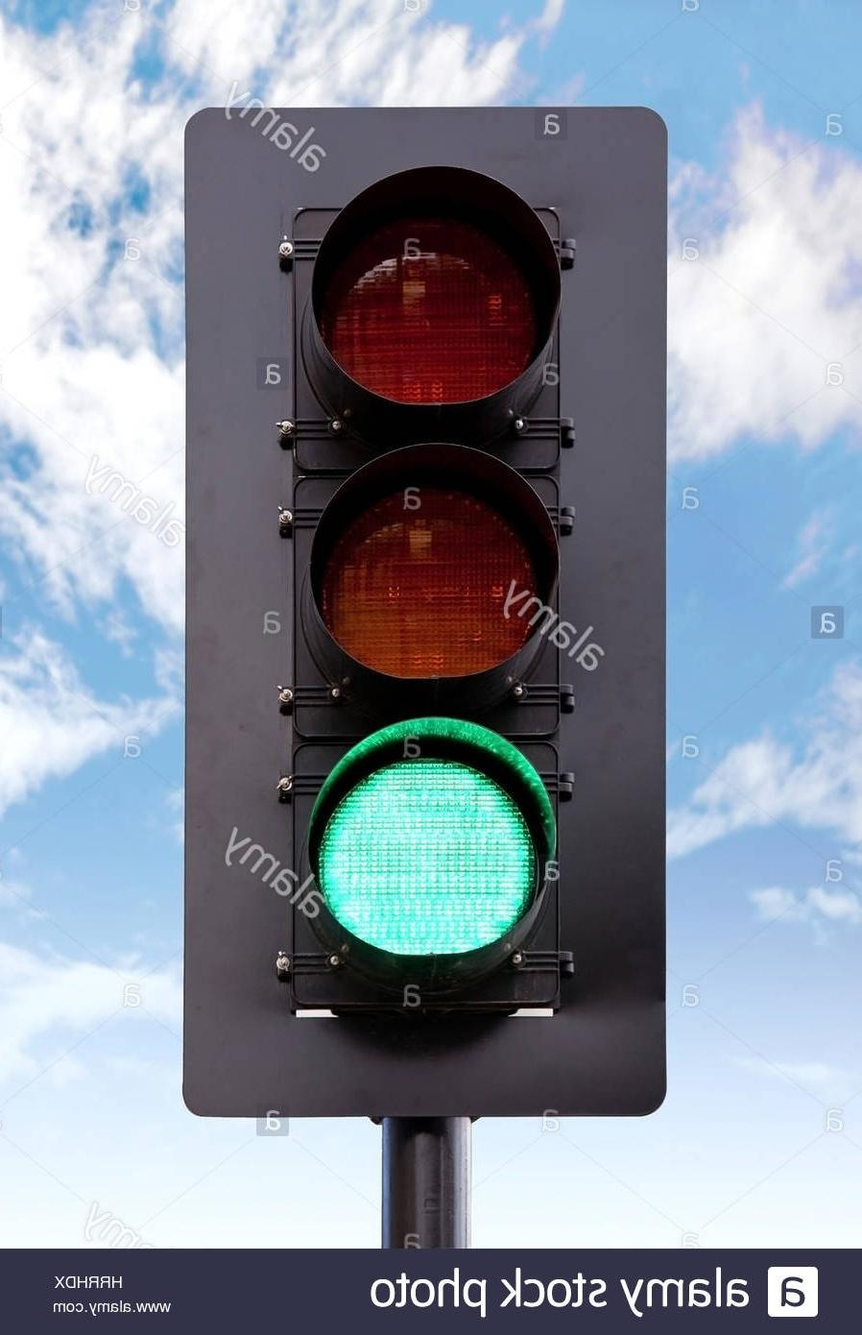Traffic light green: (202, 106, 678, 1104)
